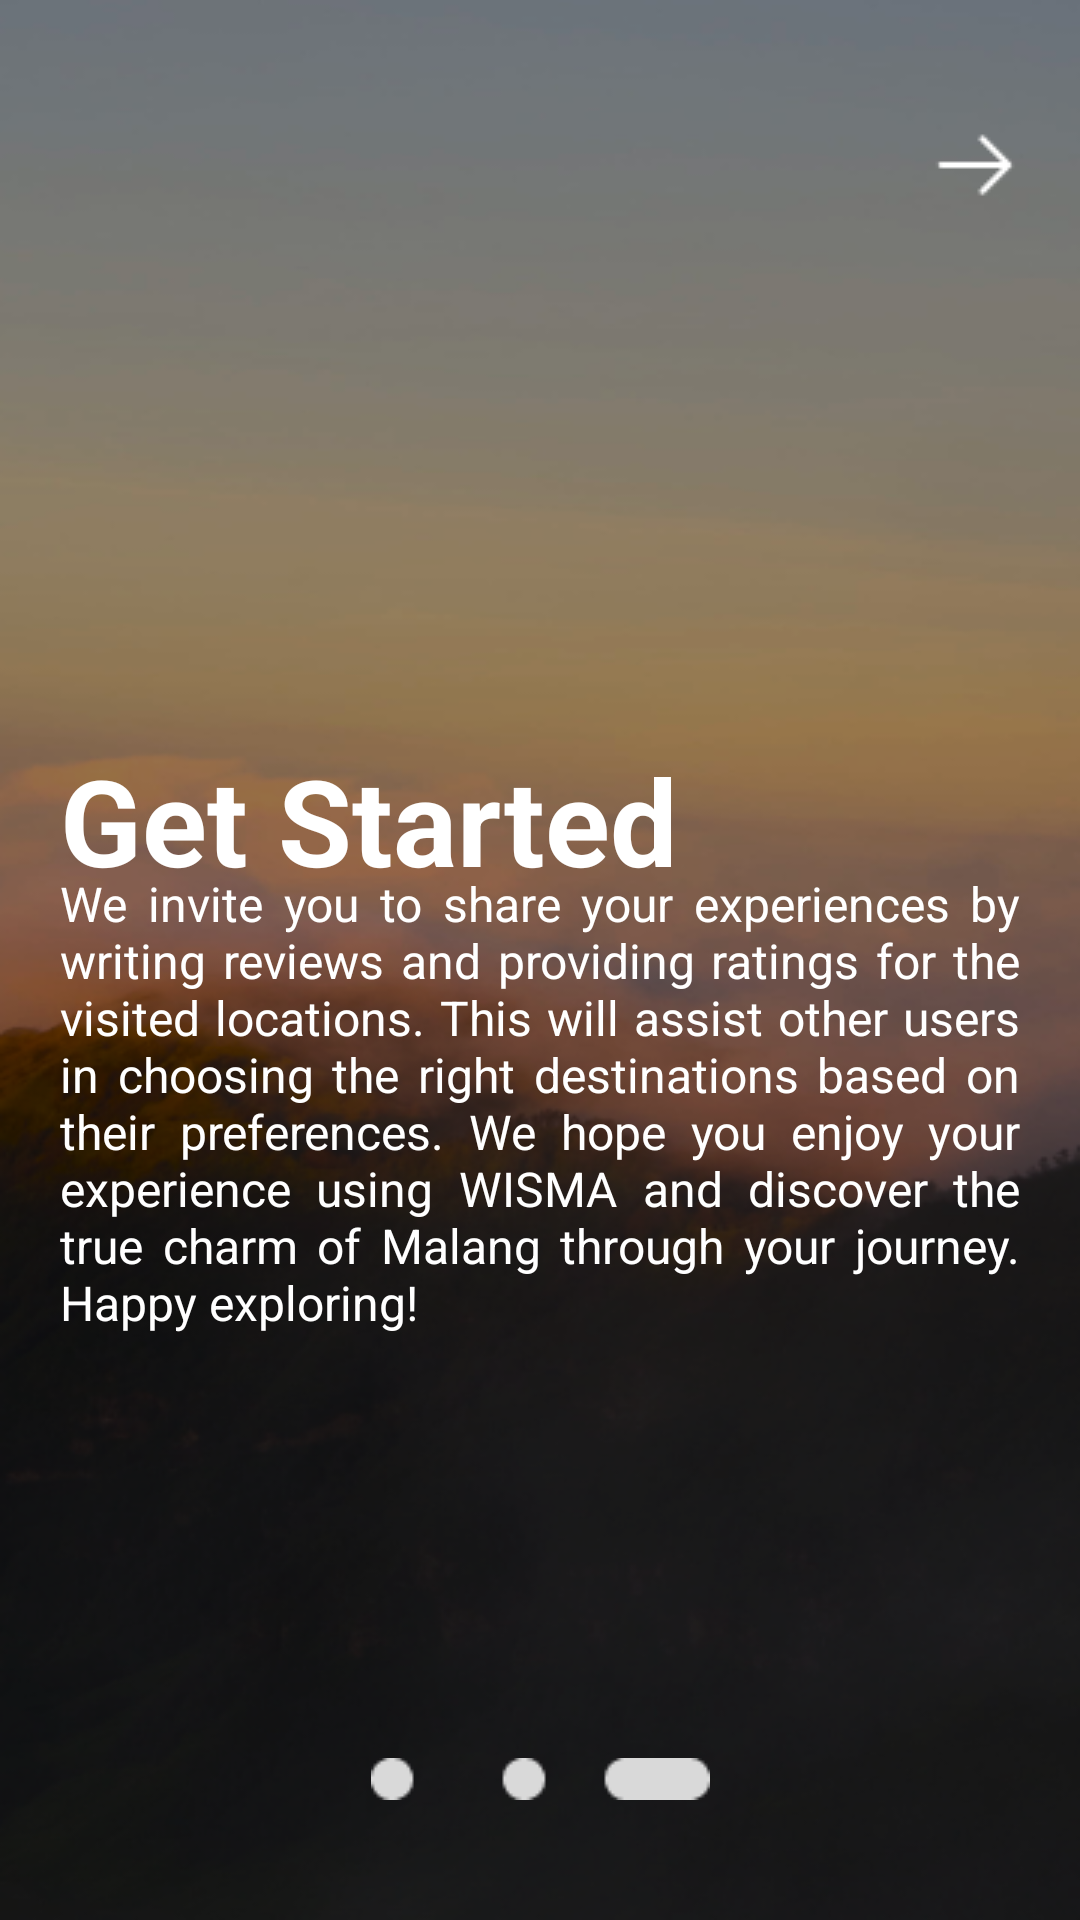

Point at icon controls on the screen. Image size 1080px×1920px, points as (x,y).
arrow right: (975,165)
